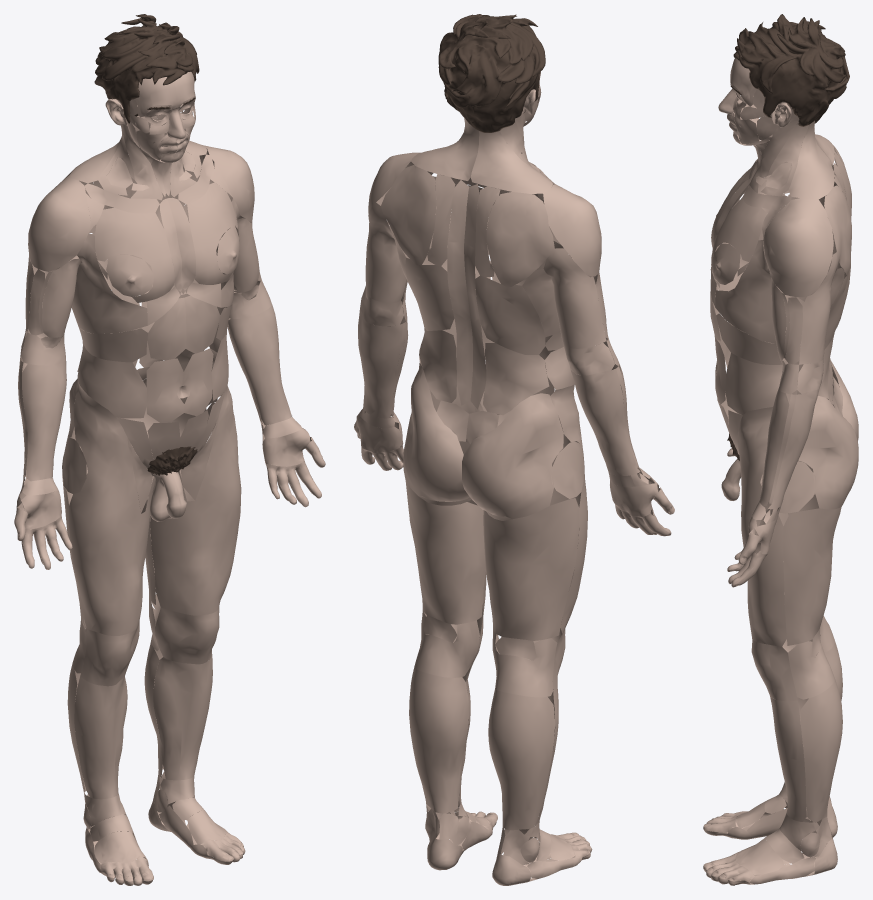
The model's file is piel.glb.
The picture shows the model from 3 angles, left to right: view 1: azimuth 30°, elevation 25°; view 2: azimuth 150°, elevation 25°; view 3: azimuth 270°, elevation 25°; orthographic projection. The views are drawn at different scales.
Visible parts, largest first — view 1: piel; view 2: piel; view 3: piel.
Part boxes in pixels (x1,y1,x2,y2): piel: (14, 14, 325, 885); piel: (354, 14, 674, 885); piel: (703, 14, 858, 885).
Bounding box in the file's own units: 0.68 × 1.74 × 0.294.
